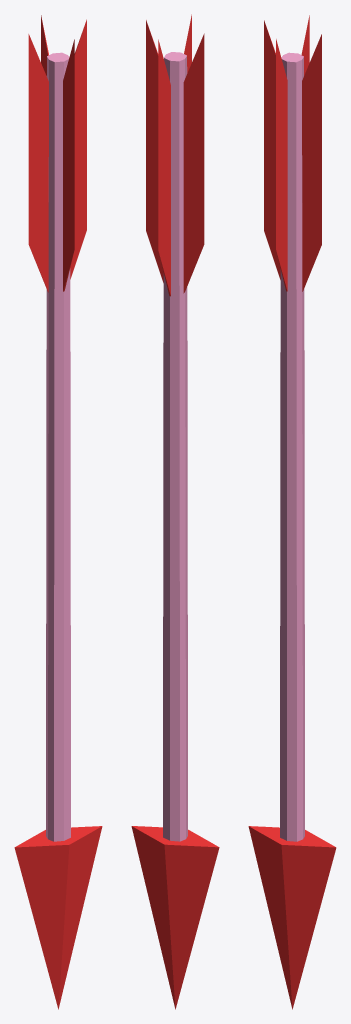
The model's file is arrow.glb.
The picture shows the model from 3 angles, left to right: view 1: azimuth 30°, elevation 25°; view 2: azimuth 150°, elevation 25°; view 3: azimuth 330°, elevation 25°; orthographic projection.
Visible parts, largest first — view 1: Arrow, Feathers, Point; view 2: Arrow, Feathers, Point; view 3: Arrow, Feathers, Point.
Boxes of the visible parts, x1=… form: Arrow: x1=46, y1=52, x2=70, y2=841; Feathers: x1=28, y1=15, x2=86, y2=292; Point: x1=14, y1=826, x2=102, y2=1009; Arrow: x1=163, y1=52, x2=187, y2=841; Feathers: x1=146, y1=14, x2=204, y2=296; Point: x1=131, y1=826, x2=219, y2=1009; Arrow: x1=280, y1=52, x2=304, y2=841; Feathers: x1=264, y1=15, x2=321, y2=291; Point: x1=248, y1=826, x2=336, y2=1009.
Bounding box in the file's own units: 0.3449 × 3.68 × 0.2279.
